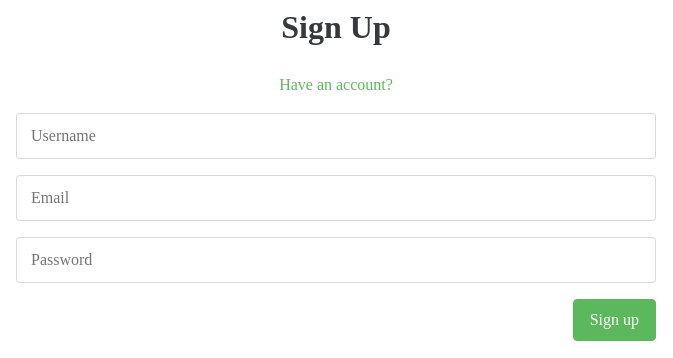
Register form › [unit] disables the submit button while the request is in progress
The image size is (673, 358).
Click the button "Sign up".
click(614, 320)  # box top-left (573, 299), bottom-right (656, 341)
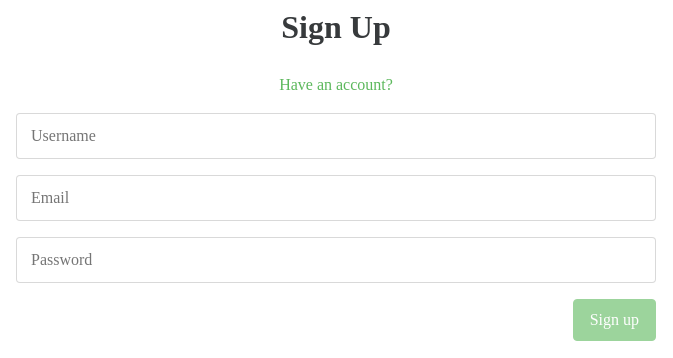
Check: the button "Sign up" is disabled, box top-left (573, 299), bottom-right (656, 341)
